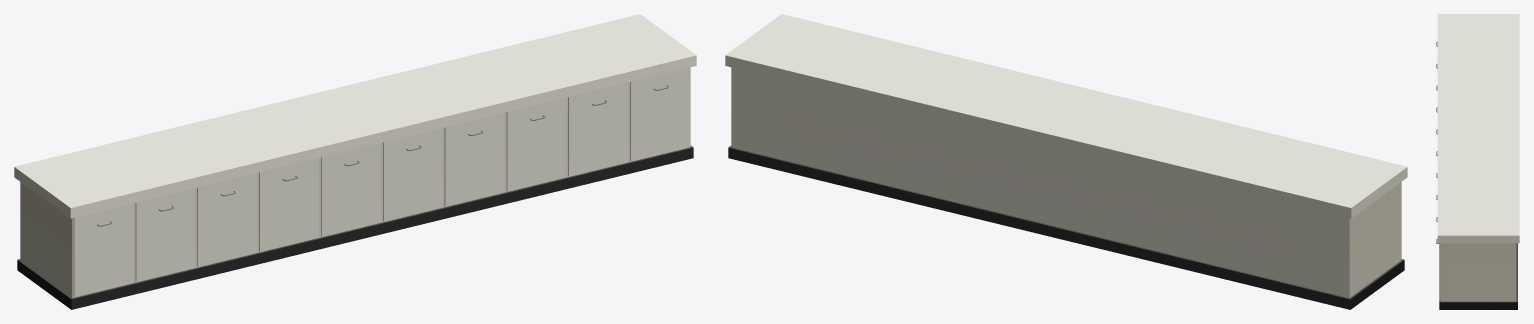
The model's file is CR_caf_Cabinet_003.FBX.
The picture shows the model from 3 angles, left to right: view 1: azimuth 30°, elevation 25°; view 2: azimuth 150°, elevation 25°; view 3: azimuth 270°, elevation 25°; orthographic projection. The views are drawn at different scales.
Visible parts, largest first — view 1: CR_caf_Cabinet_003; view 2: CR_caf_Cabinet_003; view 3: CR_caf_Cabinet_003.
Part boxes in pixels (x1,y1,x2,y2): CR_caf_Cabinet_003: [14, 14, 696, 309]; CR_caf_Cabinet_003: [725, 14, 1407, 309]; CR_caf_Cabinet_003: [1436, 14, 1519, 309].
Bounding box in the file's own units: 362 × 56.99 × 57.51.
